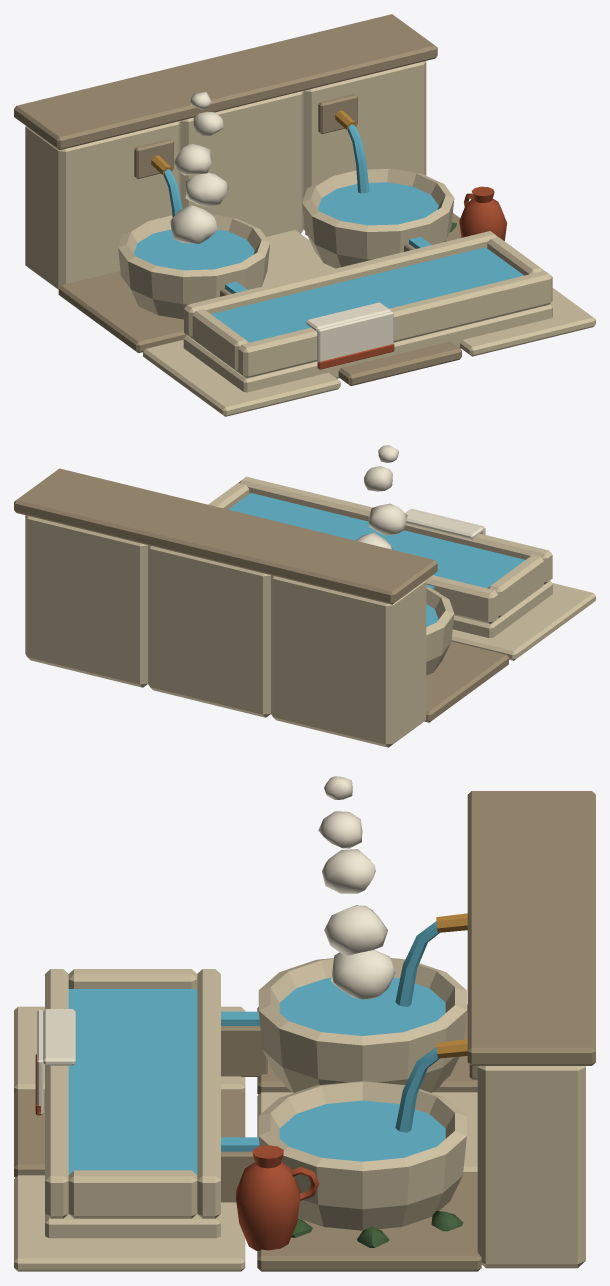
The model's file is spring.glb.
The picture shows the model from 3 angles, top to bottom: view 1: azimuth 30°, elevation 25°; view 2: azimuth 150°, elevation 25°; view 3: azimuth 270°, elevation 25°; orthographic projection. The views are drawn at different scales.
Parts seen in each view (by area): view 1: spring; view 2: spring; view 3: spring.
Boxes of the visible parts, bbox=[...] form: spring: bbox=[14, 14, 595, 416]; spring: bbox=[14, 445, 595, 747]; spring: bbox=[14, 776, 595, 1271].
Bounding box in the file's own units: 0.91 × 0.5026 × 0.861.
